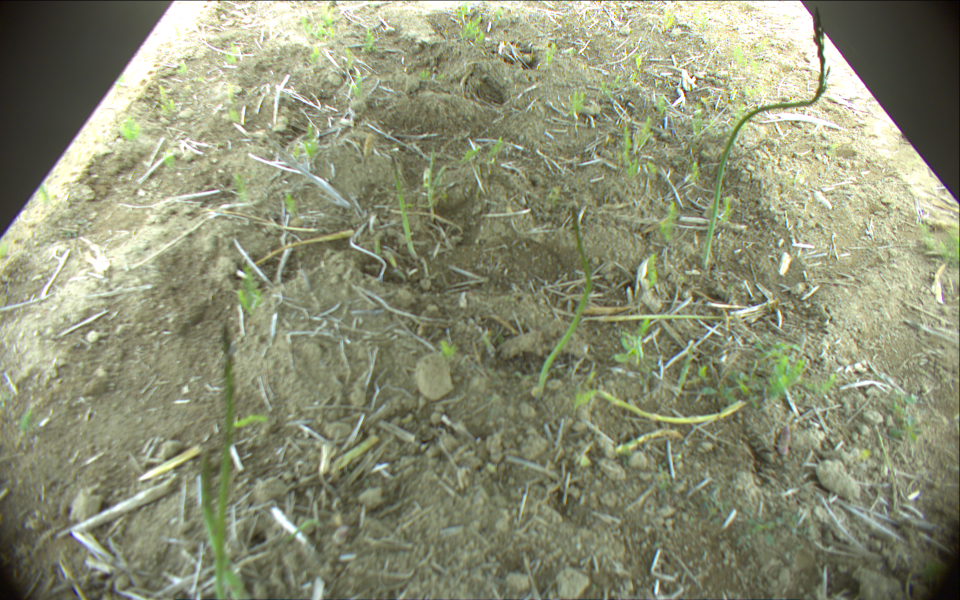aspa: (701, 6, 827, 268), (536, 204, 593, 396), (213, 323, 238, 600), (199, 450, 244, 600), (582, 395, 746, 424), (387, 153, 418, 253), (330, 435, 375, 476), (615, 429, 683, 452), (589, 314, 741, 324), (426, 150, 440, 221)
